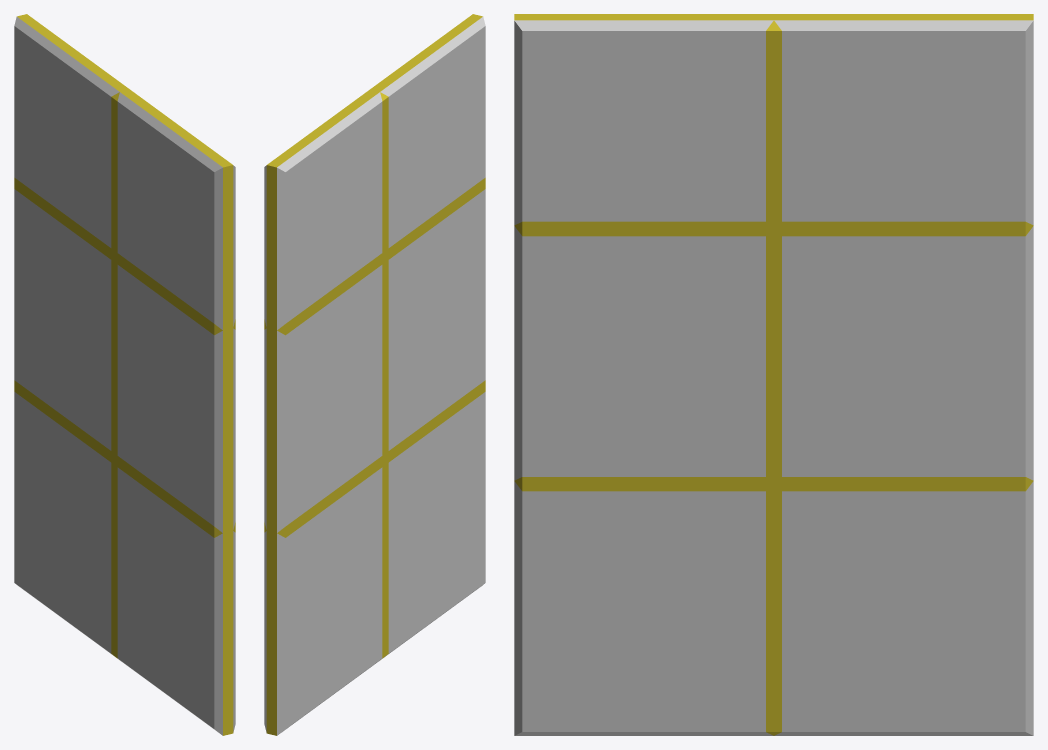
Rendered from DrawBridge01.fbx.
3 renders of one model, left to right at view 1: azimuth 30°, elevation 25°; view 2: azimuth 150°, elevation 25°; view 3: azimuth 270°, elevation 25°, orthographic. The views are drawn at different scales.
Visible parts, largest first — view 1: Cube; view 2: Cube; view 3: Cube.
Part boxes in pixels (x1,y1,x2,y2): Cube: (14,14,235,735); Cube: (264,14,485,735); Cube: (514,14,1033,735).
Bounding box in the file's own units: 0.0781 × 2 × 1.32.
